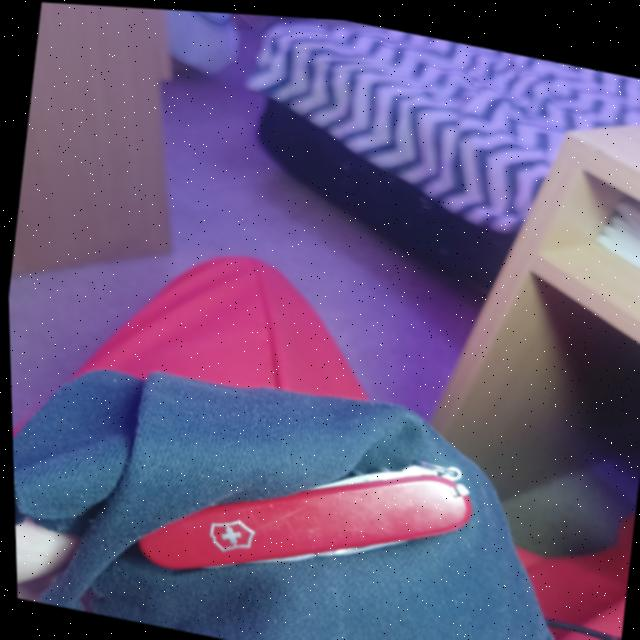knife victorinox: (136, 461, 469, 567)
